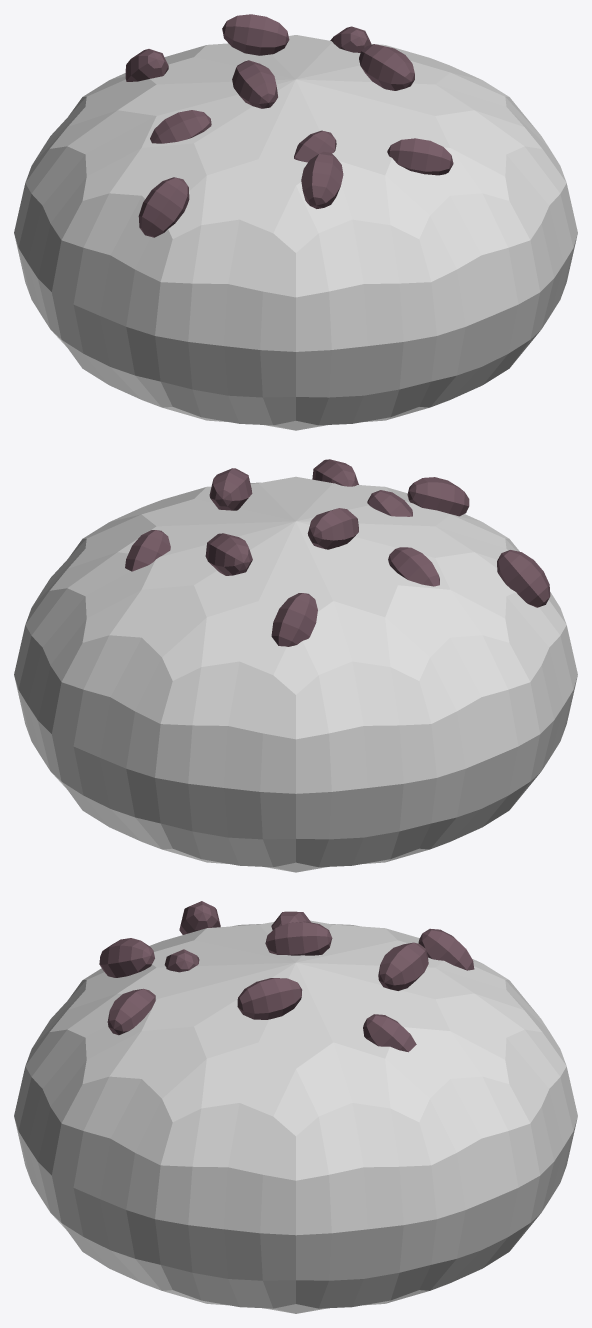
The model's file is RaisinCookieScoop.fbx.
3 views of the same model, one above another, from view 1: azimuth 30°, elevation 25°; view 2: azimuth 150°, elevation 25°; view 3: azimuth 270°, elevation 25° (orthographic).
Parts seen in each view (by area): view 1: RaisinCookieScoop; view 2: RaisinCookieScoop; view 3: RaisinCookieScoop.
Boxes of the visible parts, <box> form: RaisinCookieScoop: <box>14,14,577,430</box>; RaisinCookieScoop: <box>14,459,577,872</box>; RaisinCookieScoop: <box>14,901,577,1313</box>.
Size of the model in its own units: 10.83 by 10.83 by 6.97.
